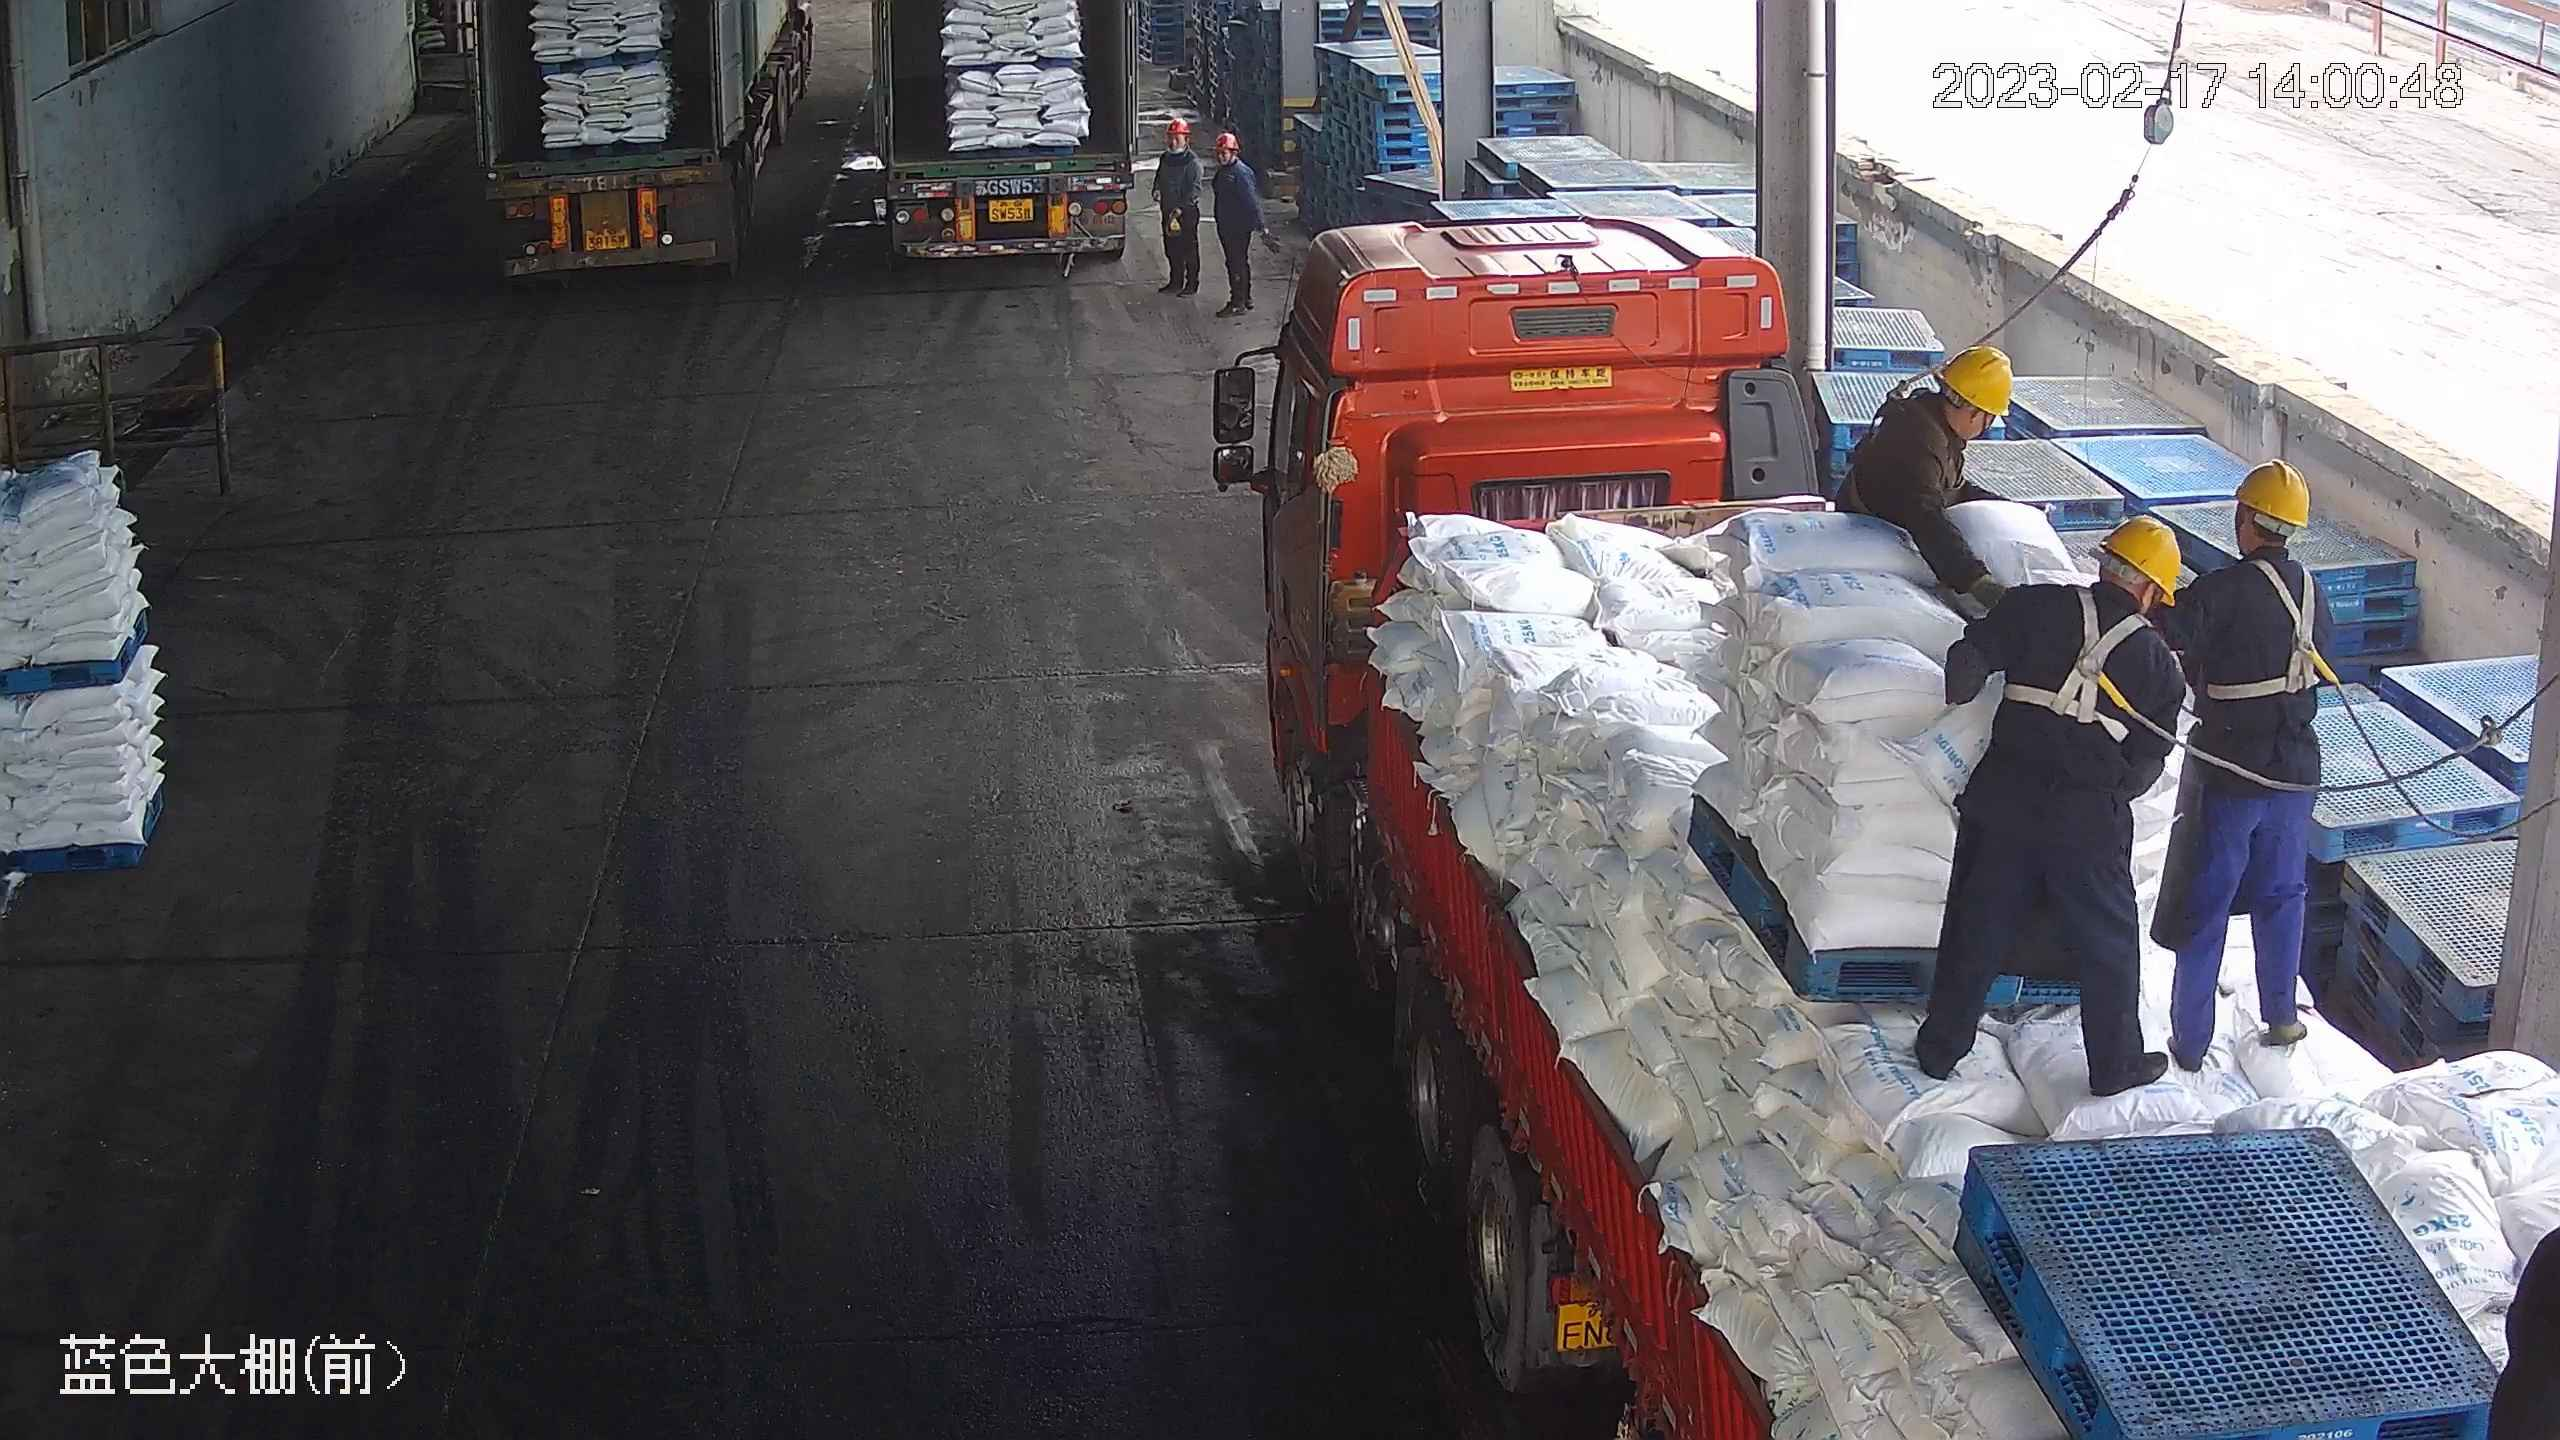belt: (1991, 585, 2148, 749), (2199, 554, 2342, 712), (1840, 374, 1925, 527)
head: (2014, 516, 2190, 707), (1851, 345, 2015, 515), (2155, 460, 2316, 608), (1152, 119, 1204, 185), (1209, 133, 1254, 196)
helmet: (2102, 516, 2183, 605), (1937, 346, 2014, 420), (2233, 459, 2311, 529), (1214, 131, 1238, 150), (1168, 120, 1192, 133)
people: (1913, 513, 2187, 1102), (2152, 459, 2321, 1074), (1209, 131, 1281, 320), (1152, 118, 1205, 300)
truck: (1202, 210, 2556, 1440), (471, 1, 815, 292), (865, 1, 1137, 278)
